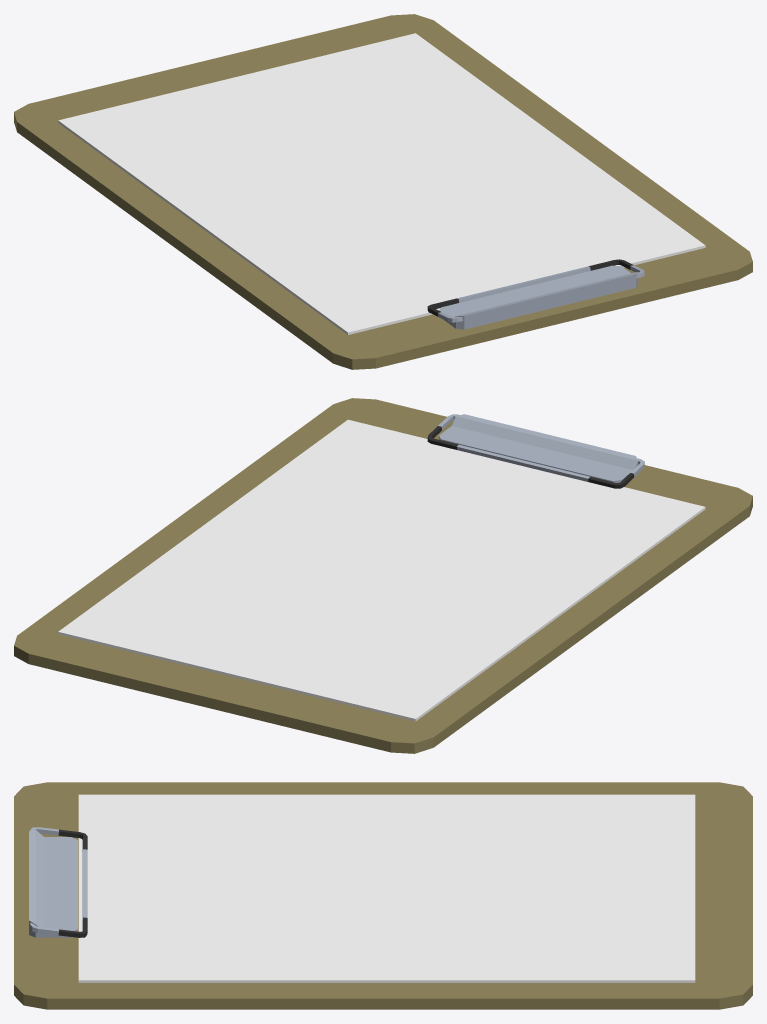
File: Cupboard.fbx
3 views of the same model, one above another, from view 1: azimuth 30°, elevation 25°; view 2: azimuth 150°, elevation 25°; view 3: azimuth 270°, elevation 25° (orthographic). The views are drawn at different scales.
Visible parts, largest first — view 1: Cupboard; view 2: Cupboard; view 3: Cupboard.
Boxes of the visible parts, x1,y1,x2,y2 form: Cupboard: (14, 14, 752, 369); Cupboard: (14, 398, 752, 753); Cupboard: (14, 782, 752, 1009).
Size of the model in its own units: 24.47 by 1.36 by 35.35.
